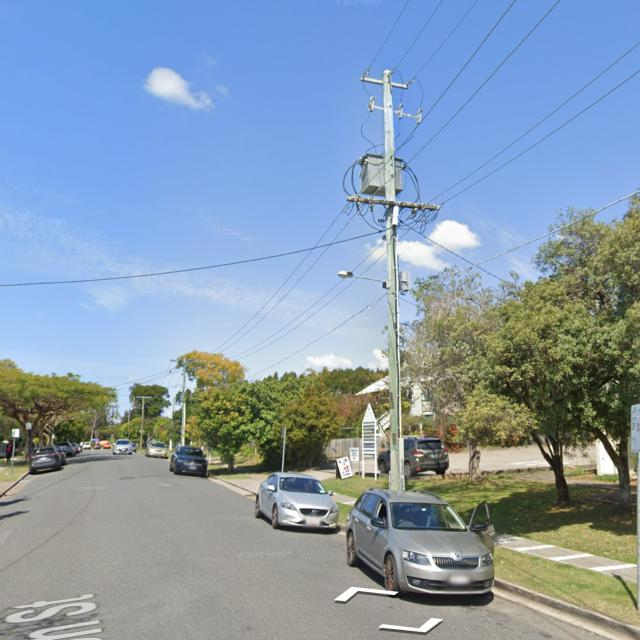HV-transmission: (360, 69, 422, 123)
LV link: (418, 210, 438, 224), (356, 203, 375, 217), (343, 201, 360, 215), (404, 208, 418, 222)
crossarm: (345, 195, 441, 211), (368, 103, 418, 120), (359, 75, 408, 88), (137, 396, 151, 398)
steel-pole: (281, 426, 287, 472)
streetlight: (338, 269, 391, 289)
timber-pole: (382, 68, 406, 491), (180, 356, 187, 446), (139, 394, 146, 448)
transformer: (357, 153, 402, 194)
